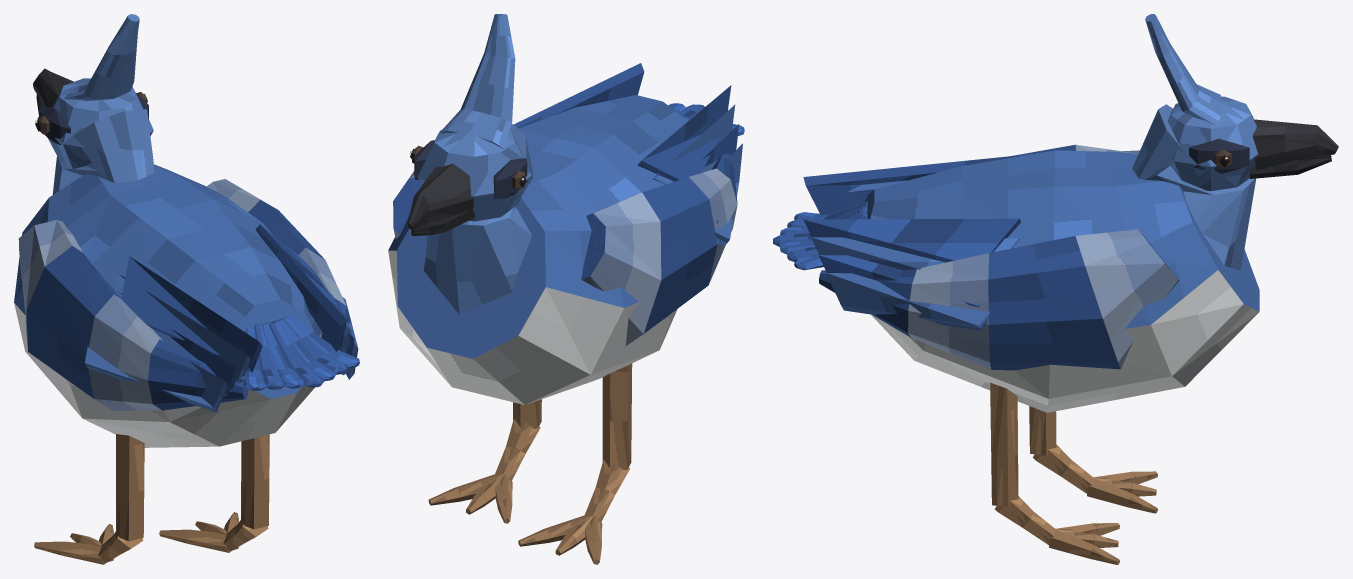
Rendered from mon_bluejay.glb.
3 views of the same model, side by side, from view 1: azimuth 30°, elevation 25°; view 2: azimuth 150°, elevation 25°; view 3: azimuth 270°, elevation 25° (orthographic). The views are drawn at different scales.
Visible parts, largest first — view 1: closed_body; view 2: closed_body; view 3: closed_body.
Part boxes in pixels (left/top/right/bottom): closed_body: left=14, top=14, right=359, bottom=564; closed_body: left=388, top=14, right=744, bottom=564; closed_body: left=773, top=14, right=1338, bottom=564.
Bounding box in the file's own units: 0.0757 × 0.1419 × 0.1429.
1 material, 1 textured.
